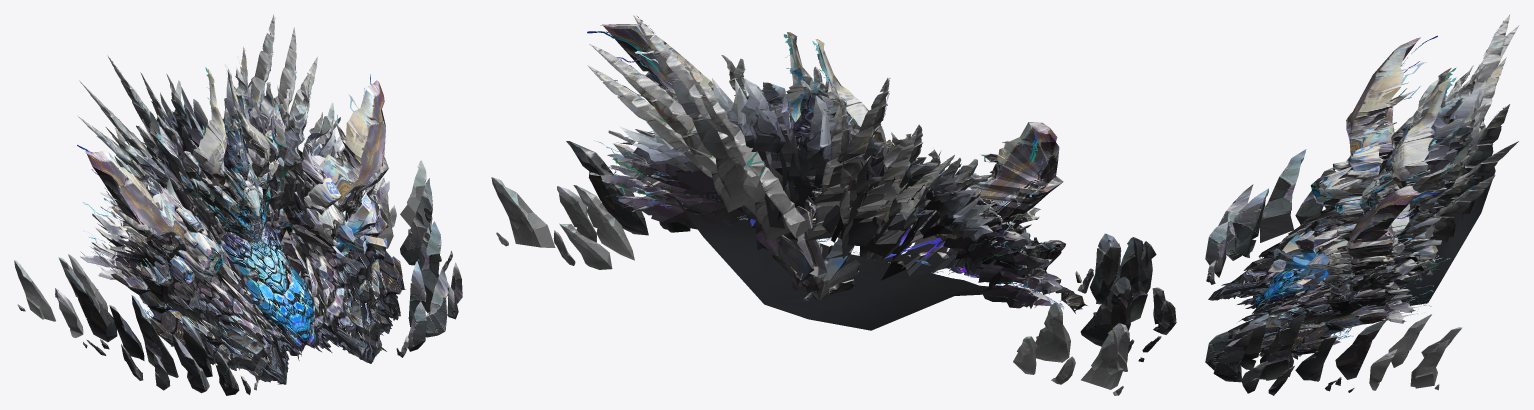
File: xbg001_psid.glb
3 renders of one model, left to right at view 1: azimuth 30°, elevation 25°; view 2: azimuth 150°, elevation 25°; view 3: azimuth 270°, elevation 25°, orthographic. The views are drawn at different scales.
Visible parts, largest first — view 1: xbg001_psid; view 2: xbg001_psid; view 3: xbg001_psid.
Part boxes in pixels (bbox=[...]): xbg001_psid: bbox=[14, 14, 462, 395]; xbg001_psid: bbox=[491, 15, 1176, 395]; xbg001_psid: bbox=[1205, 15, 1518, 395].
Bounding box in the file's own units: 41.3 × 23.33 × 24.88.
19 materials, 19 textured.
